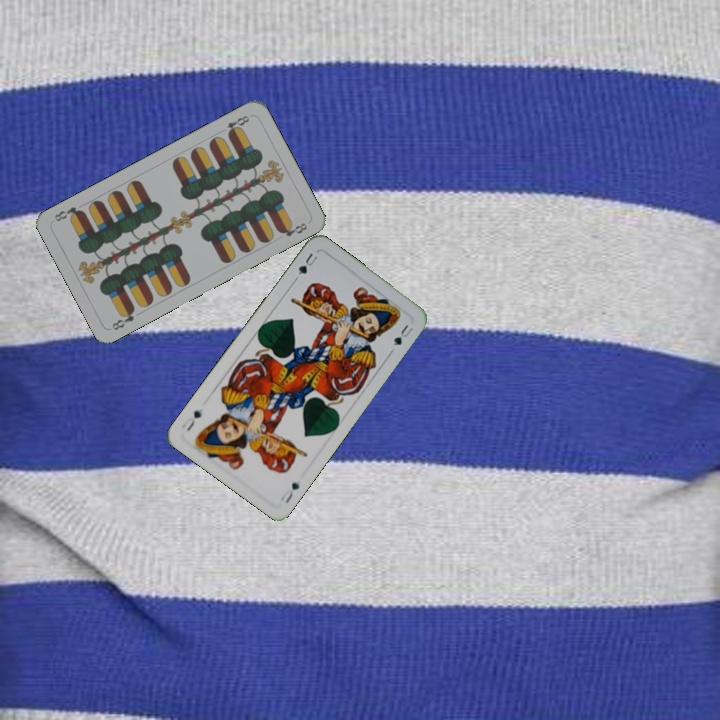E8: (108, 303, 138, 333), (222, 111, 252, 138)
GU: (291, 249, 320, 283), (281, 478, 303, 506)
